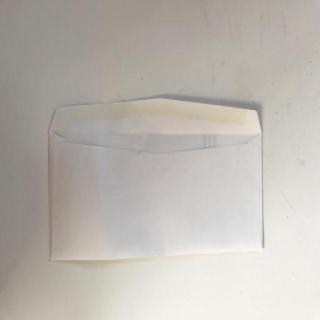Anorganik: (46, 90, 270, 266)
